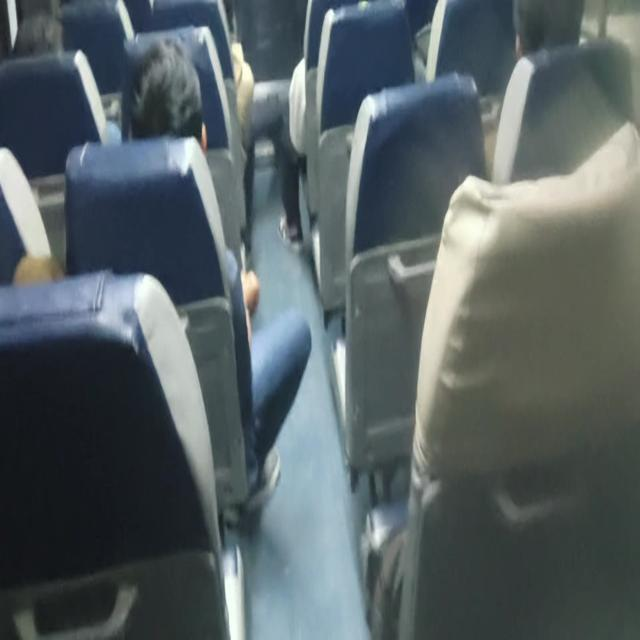person: (121, 35, 312, 515), (277, 0, 362, 246), (122, 35, 208, 152), (512, 0, 585, 61)
